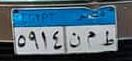1: (40, 29, 49, 51)
4: (51, 29, 62, 51)
5: (16, 34, 26, 51)
9: (27, 29, 39, 51)
Taa: (102, 29, 115, 50)
meem: (85, 29, 96, 50)
noon: (69, 32, 81, 51)
